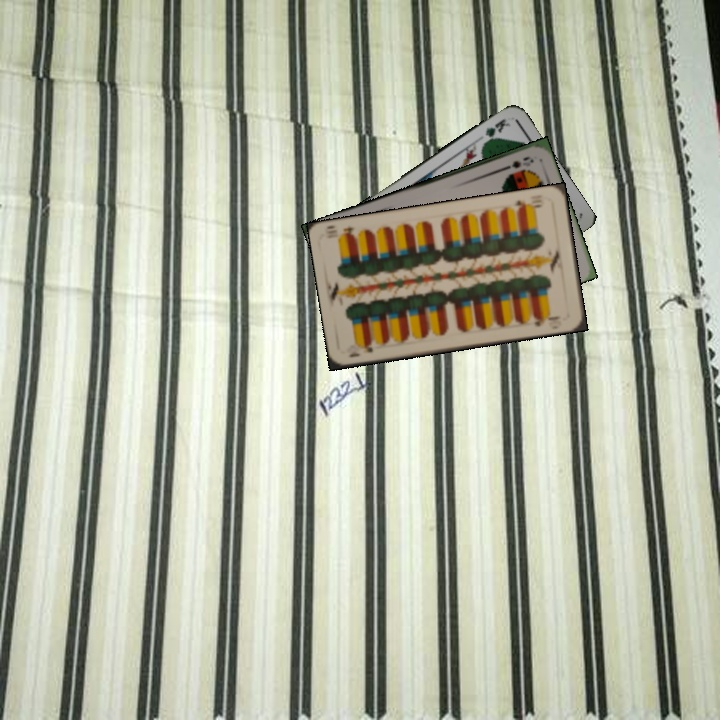E10: (510, 196, 545, 214), (345, 339, 375, 360)
GK: (480, 115, 513, 147)
SO: (497, 152, 536, 173)
